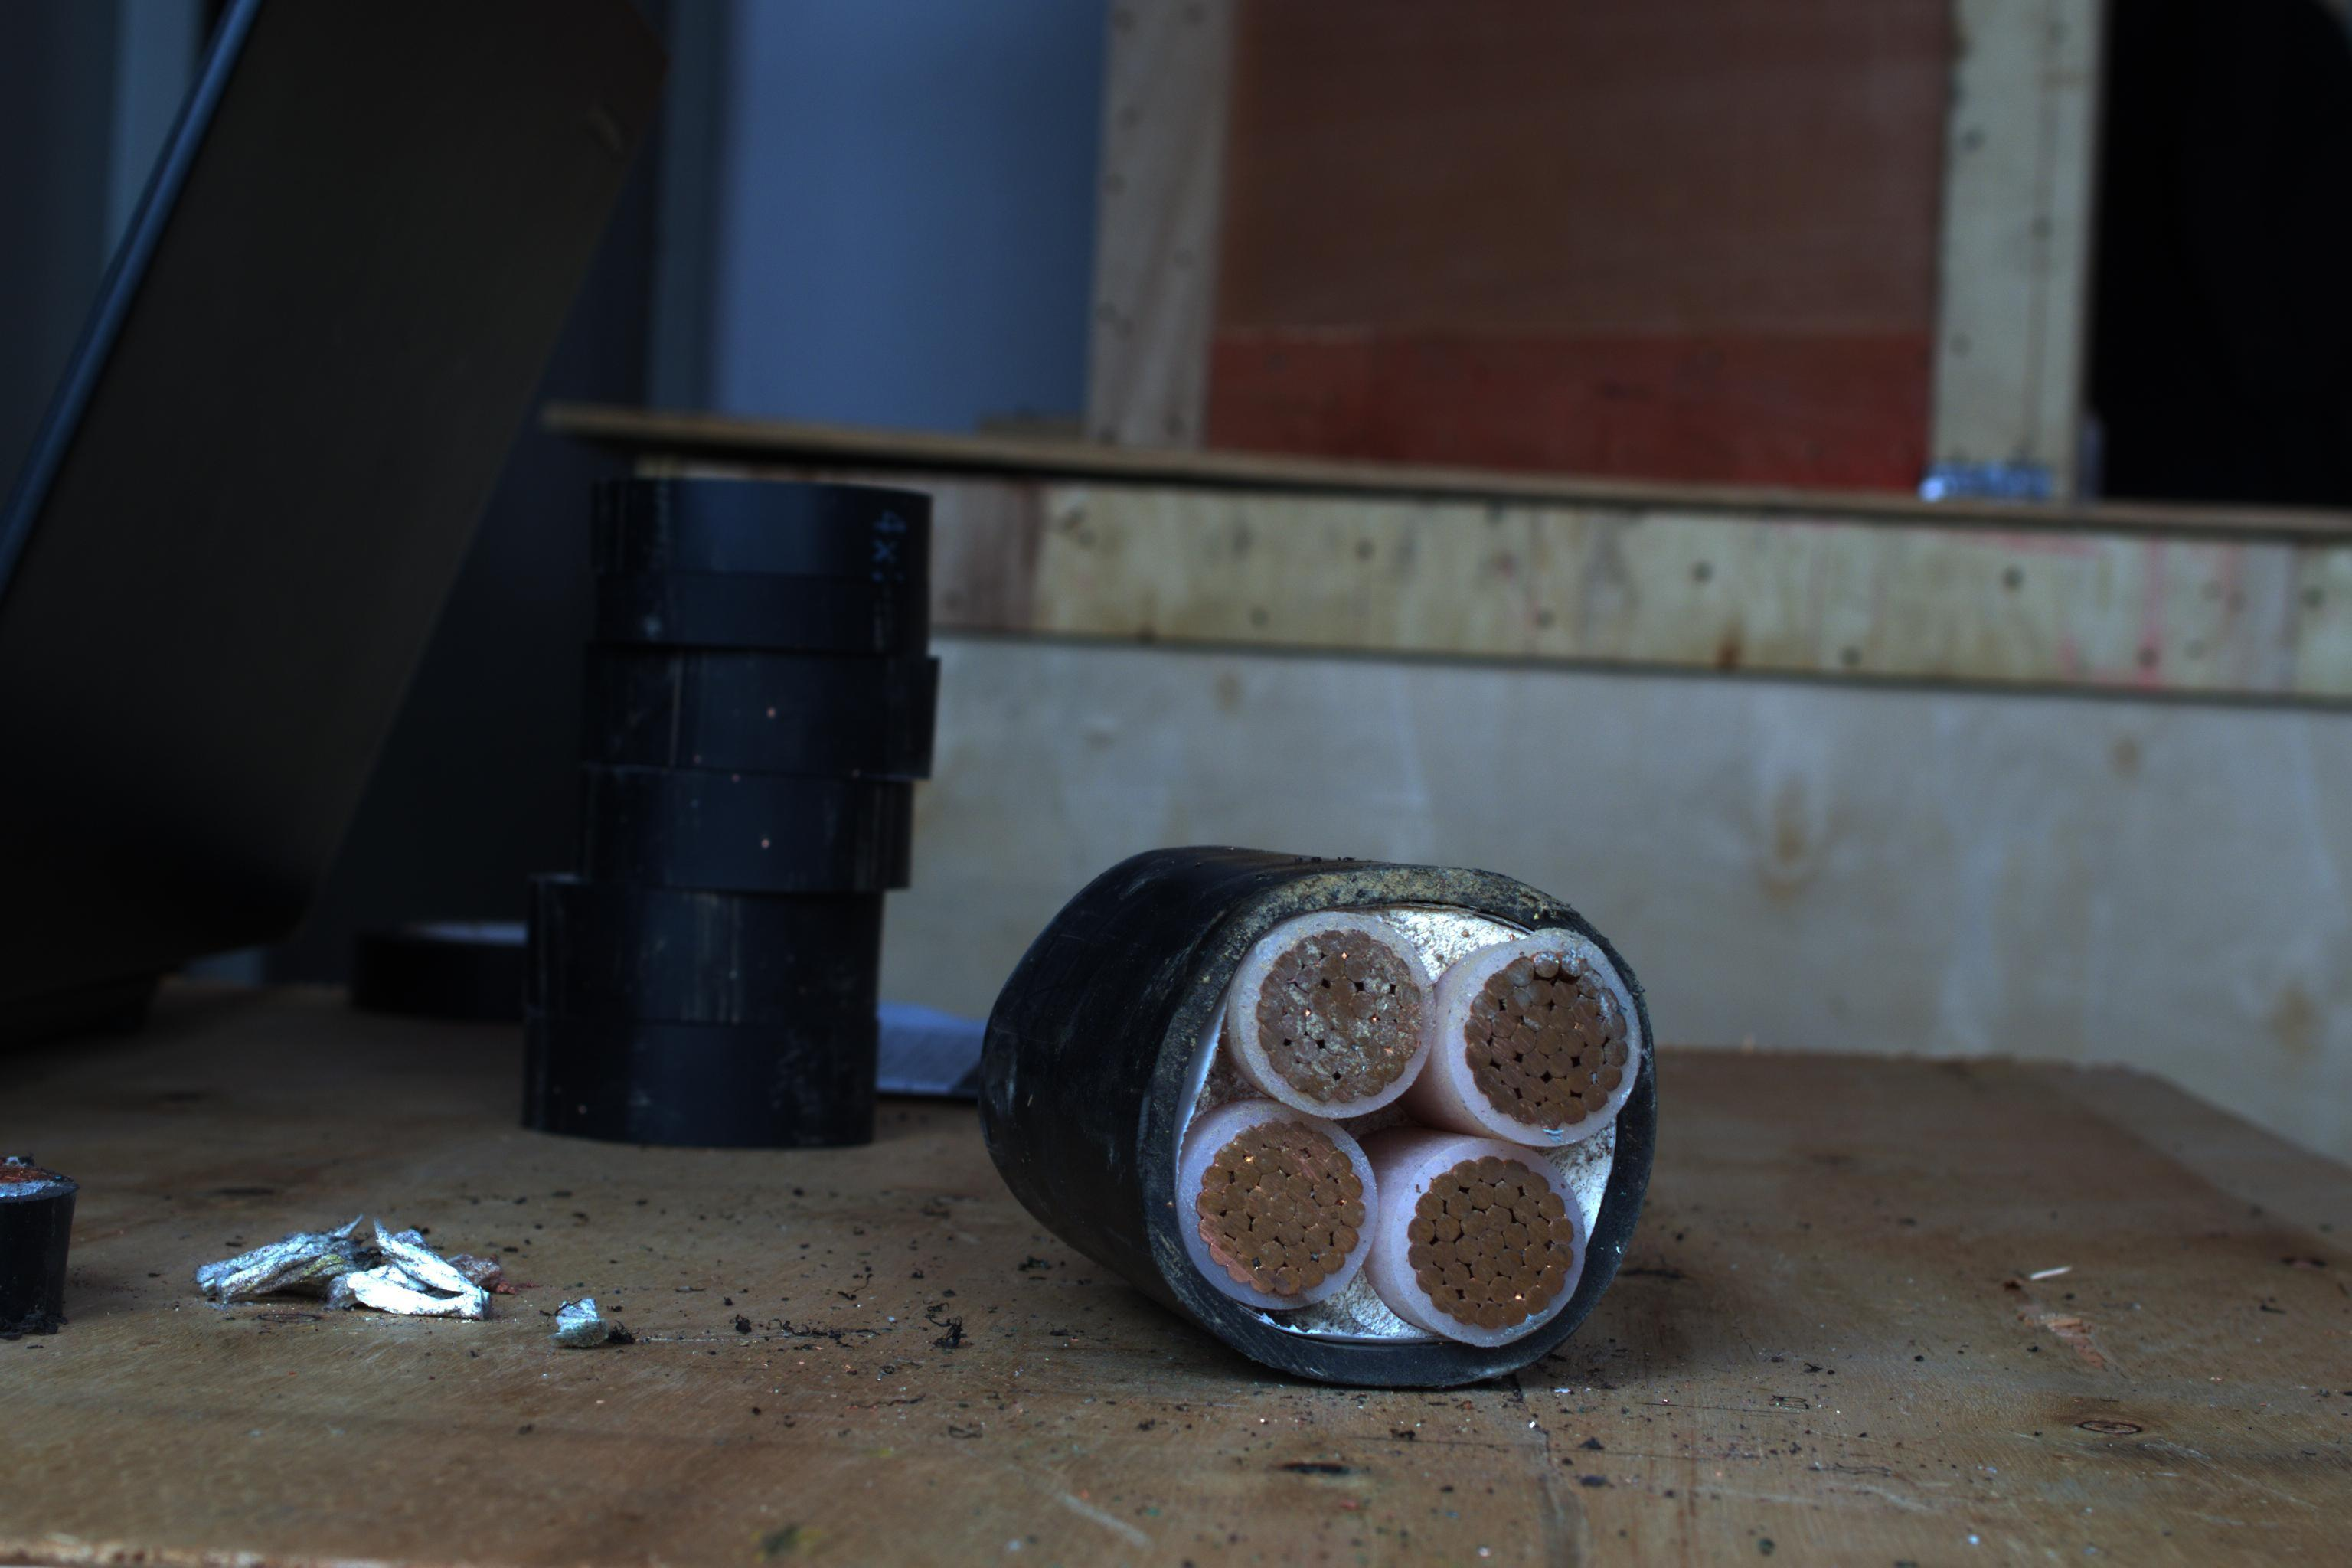YJV_0.6_1kV_4x240: (1139, 847, 1673, 1384)
